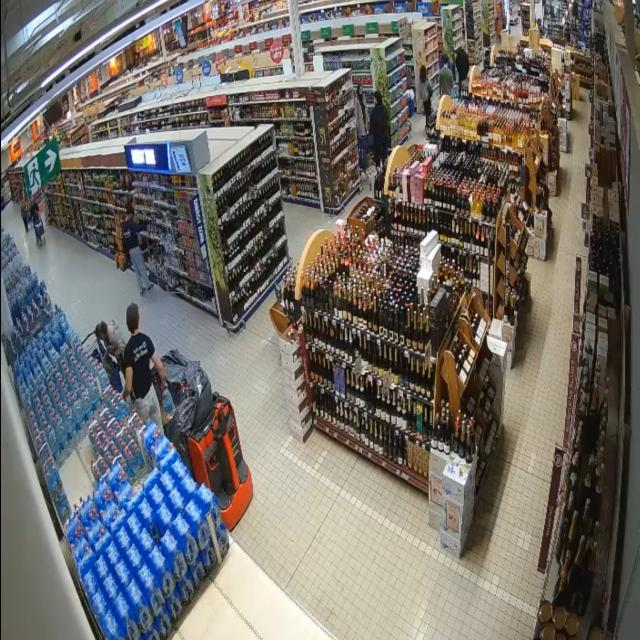article: (161, 388, 175, 420)
hands: (161, 382, 167, 390)
person: (124, 304, 166, 425), (123, 202, 153, 295), (96, 321, 126, 392), (370, 91, 390, 166), (417, 66, 432, 130), (456, 47, 469, 96), (355, 86, 367, 137), (439, 54, 453, 95)
